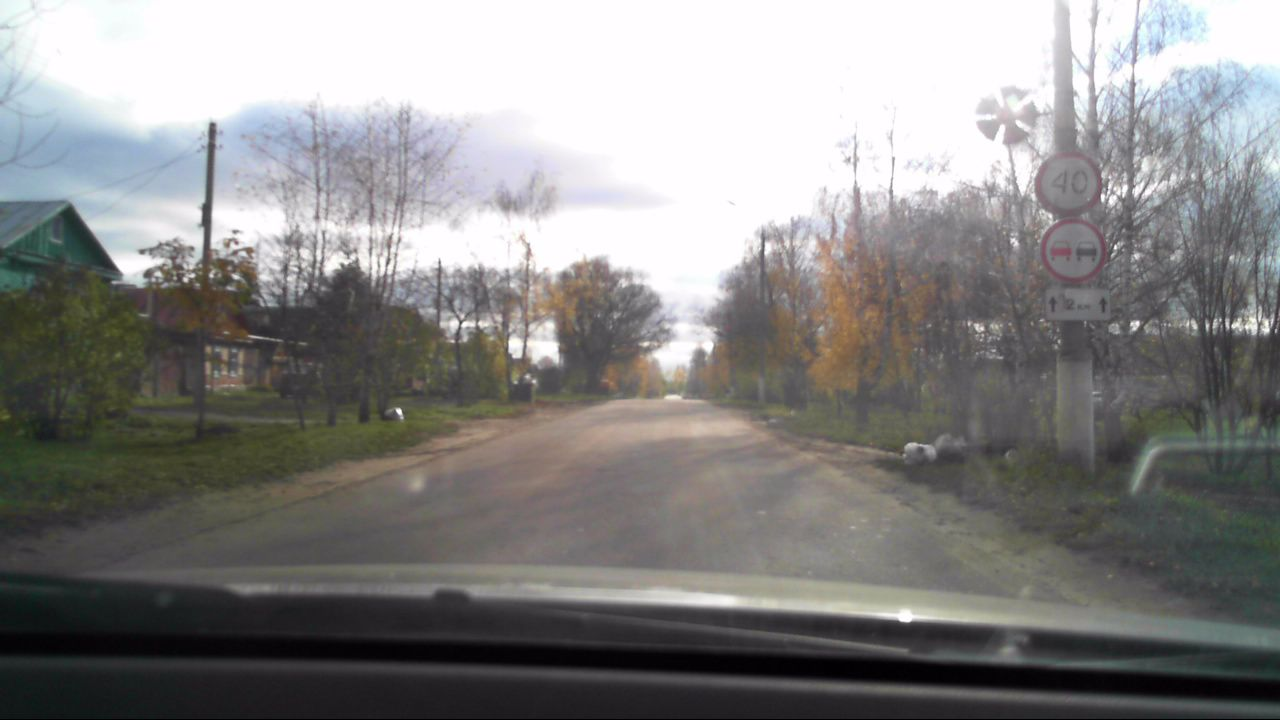speed_warning_40: (1034, 153, 1102, 216)
